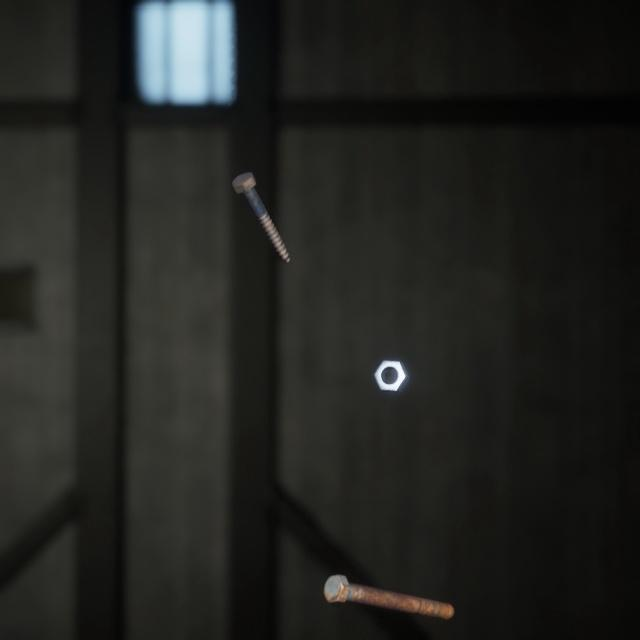bolt: (319, 547, 458, 602), (228, 151, 294, 251)
nut: (369, 337, 414, 378)
